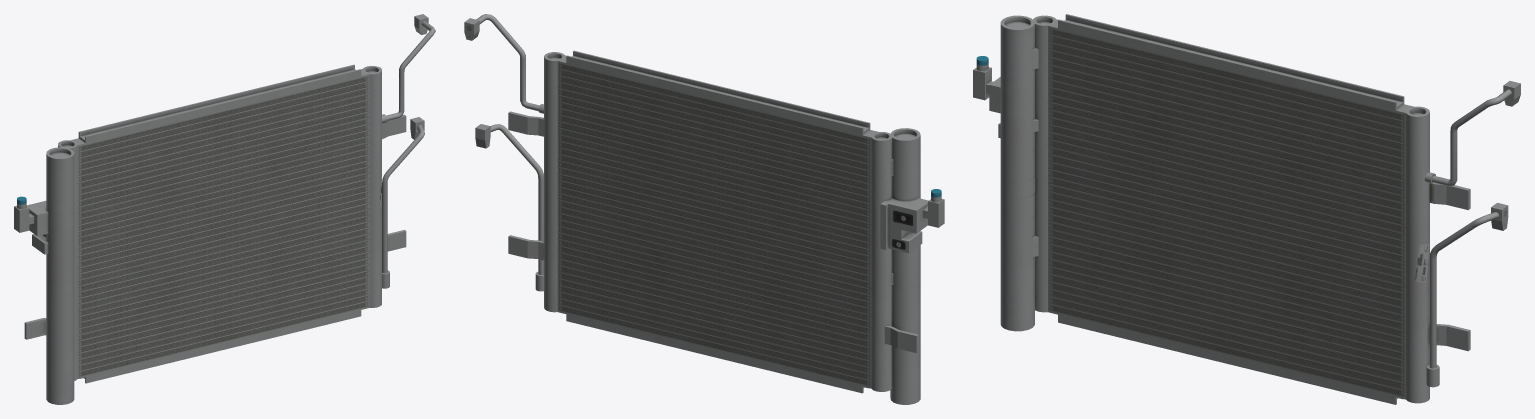
The picture shows the model from 3 angles, left to right: view 1: azimuth 30°, elevation 25°; view 2: azimuth 150°, elevation 25°; view 3: azimuth 330°, elevation 25°; orthographic projection. The views are drawn at different scales.
Parts seen in each view (by area): view 1: chlodnica_klimatyzacji_1(0); view 2: chlodnica_klimatyzacji_1(0); view 3: chlodnica_klimatyzacji_1(0).
Part boxes in pixels (left/top/right/bottom): chlodnica_klimatyzacji_1(0): left=14, top=14, right=435, bottom=404; chlodnica_klimatyzacji_1(0): left=464, top=14, right=944, bottom=404; chlodnica_klimatyzacji_1(0): left=973, top=14, right=1520, bottom=404.
Size of the model in its own units: 0.0141 by 0.00866 by 0.00177.
1 material, 1 textured.
